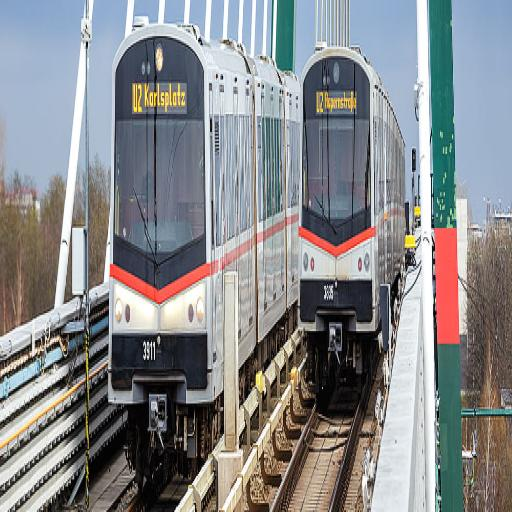V-Wagen: (108, 16, 300, 442), (300, 41, 405, 371)
